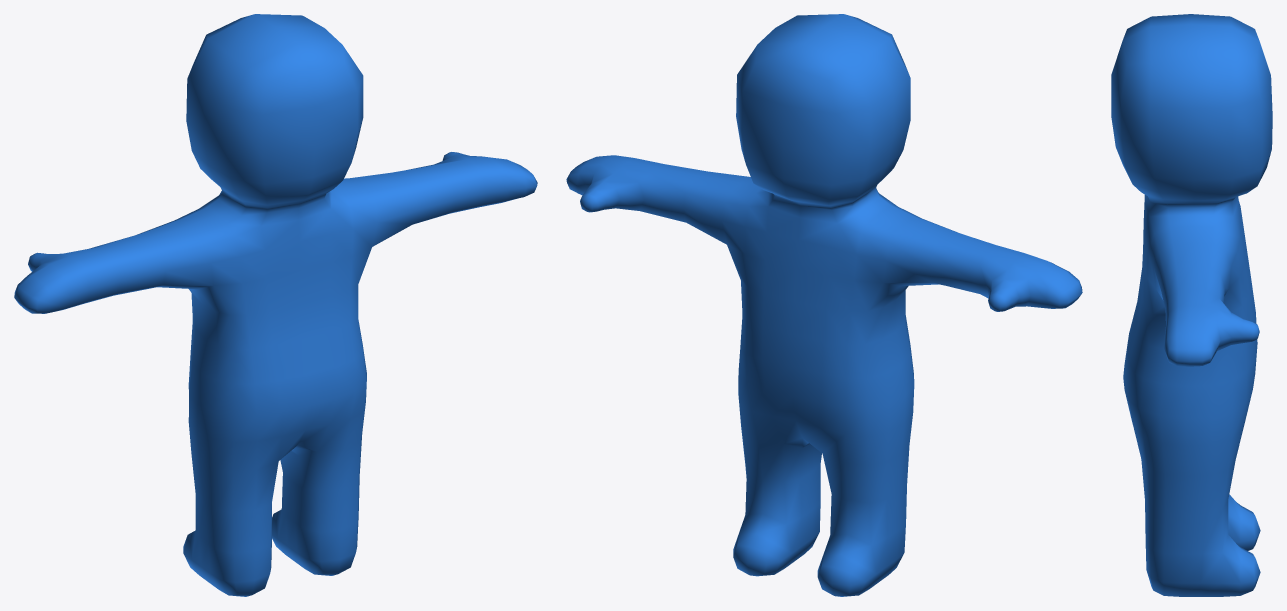
The model's file is hero.fbx.
3 views of the same model, side by side, from view 1: azimuth 30°, elevation 25°; view 2: azimuth 150°, elevation 25°; view 3: azimuth 270°, elevation 25° (orthographic).
Parts seen in each view (by area): view 1: Cube.004; view 2: Cube.004; view 3: Cube.004.
Boxes of the visible parts, <box> form: Cube.004: <box>14,14,537,596</box>; Cube.004: <box>566,14,1082,596</box>; Cube.004: <box>1111,14,1272,596</box>.
Size of the model in its own units: 690 by 709 by 189.
